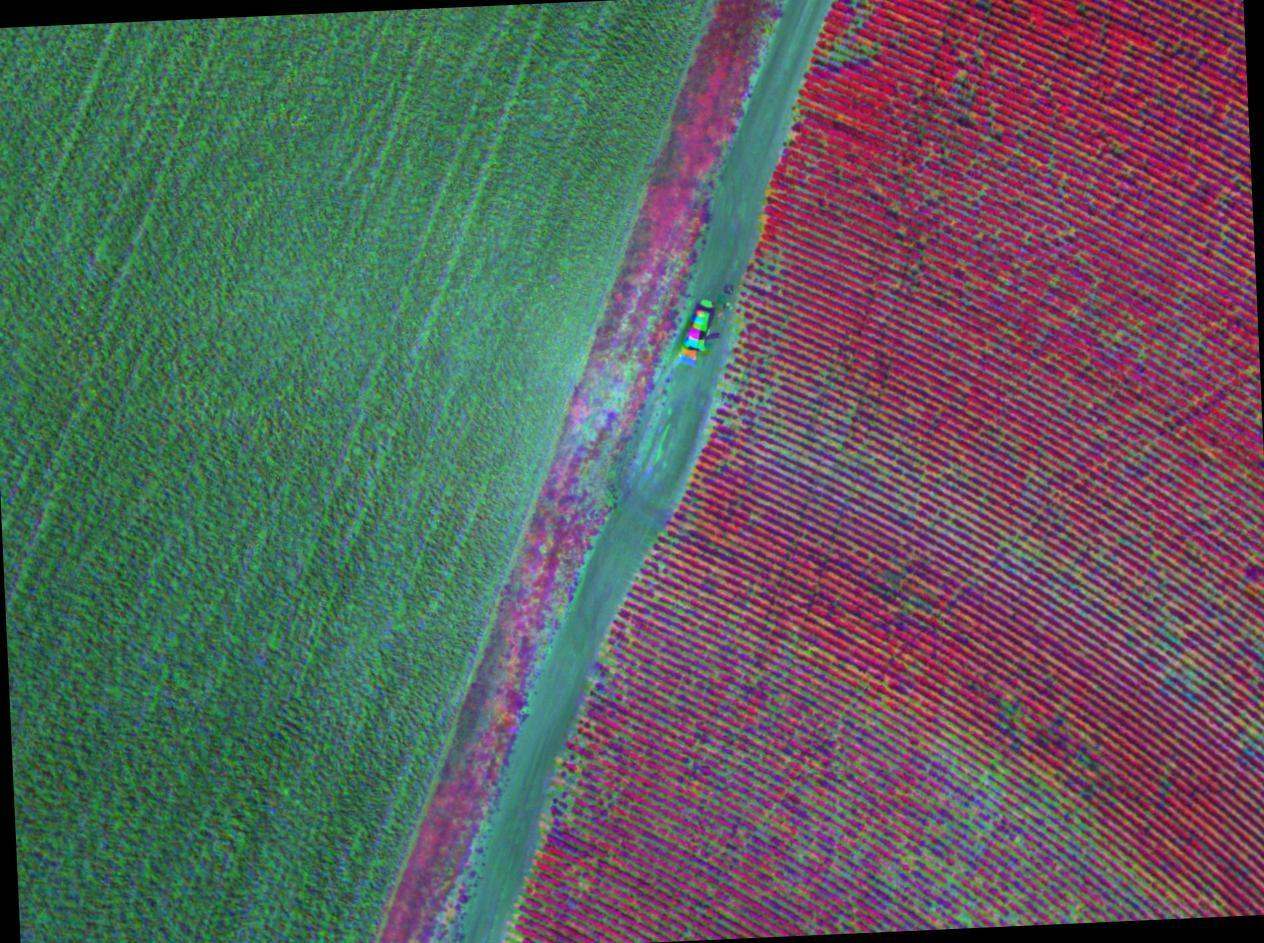dc: (729, 385, 734, 391), (514, 934, 519, 940), (839, 46, 844, 50), (833, 815, 837, 819)
